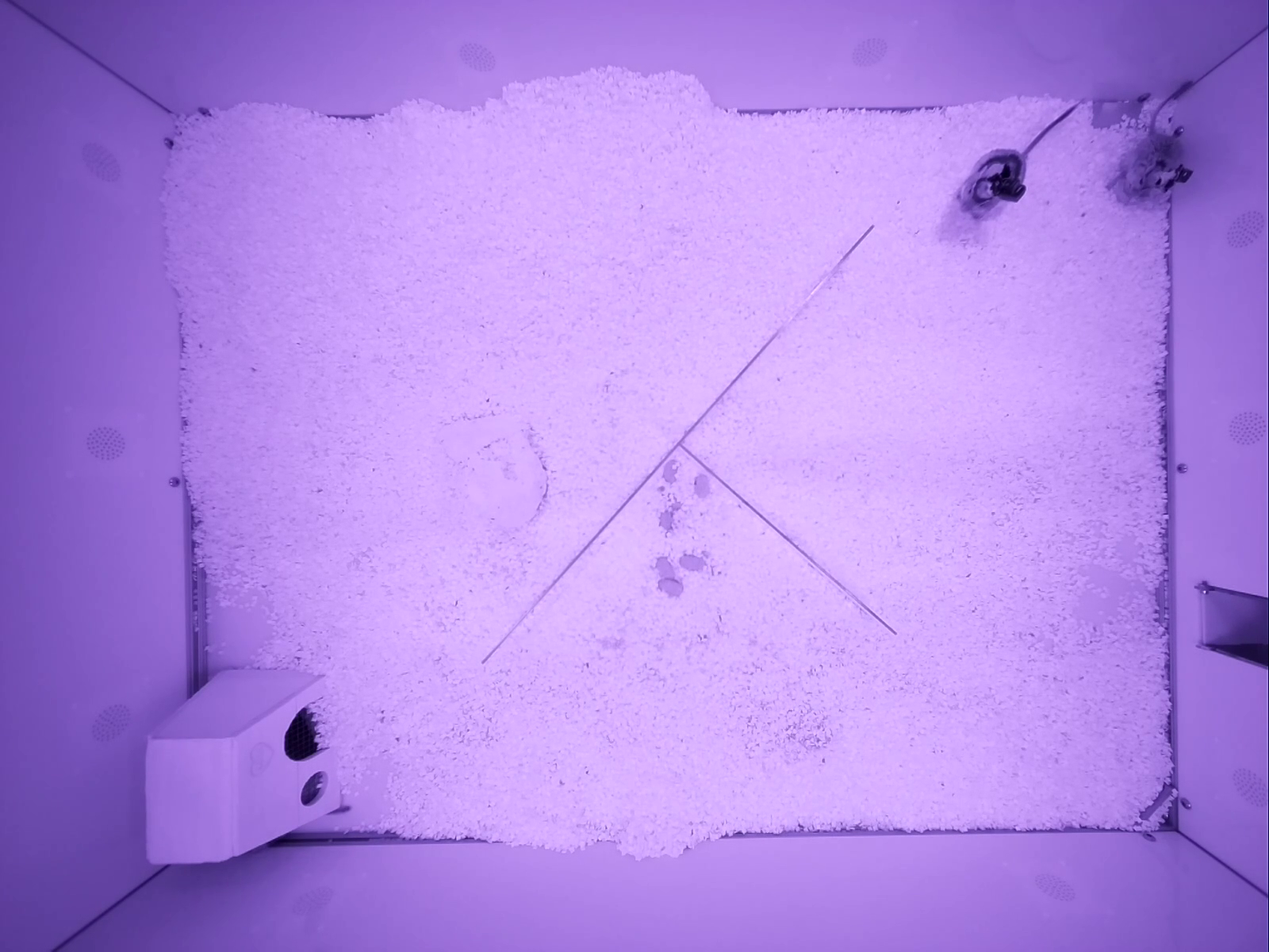adult_back: (957, 102, 1079, 217), (1110, 82, 1192, 203)
